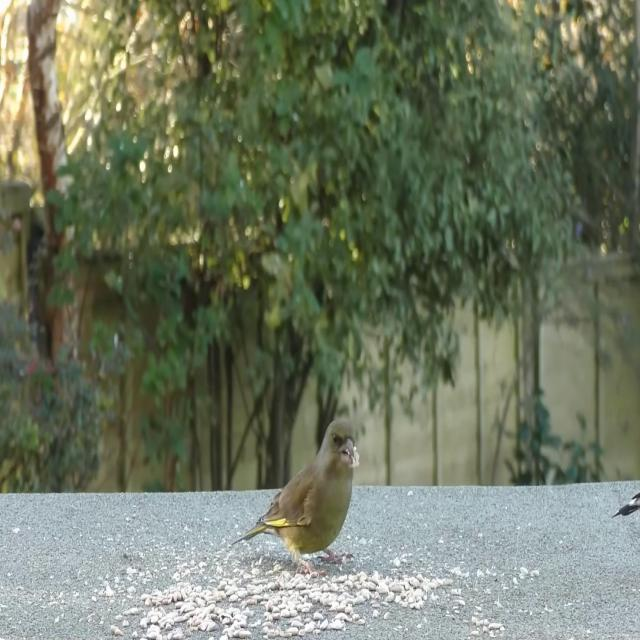beak: (341, 438, 362, 470)
bird: (233, 416, 362, 577)
